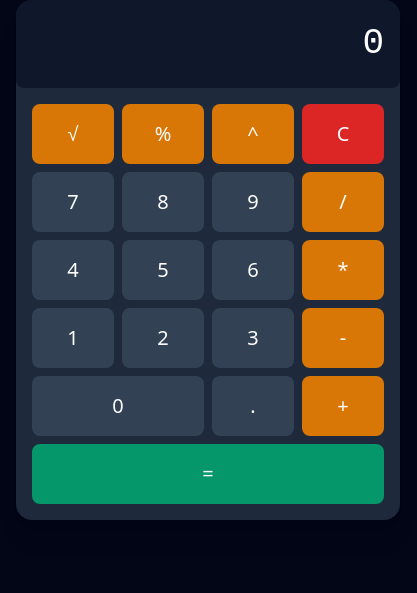
Test case: Calculator › surfaces a negative-square-root error via role=alert
Click the button "4": (73, 270) [32,240,114,300]
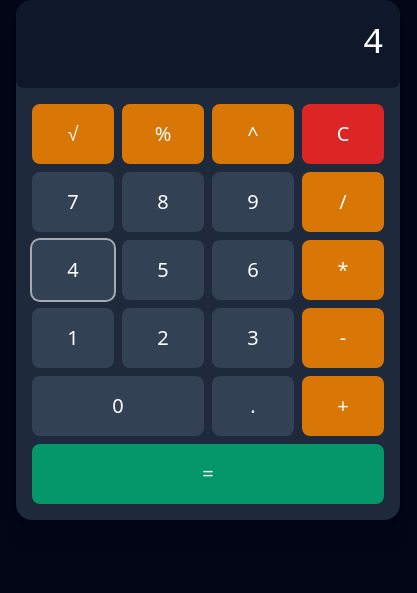
Click the button "-": (343, 338) [302,308,384,368]
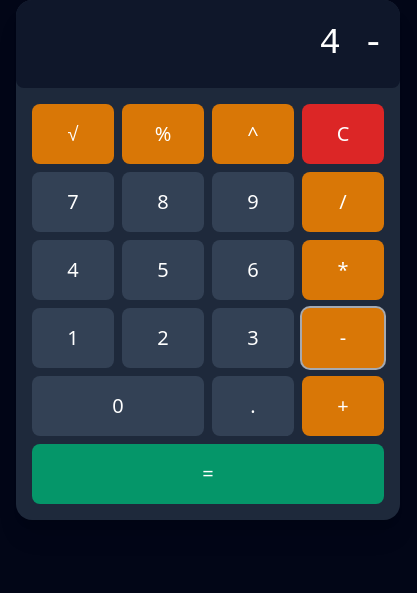
Click the button "9": (253, 202) [212,172,294,232]
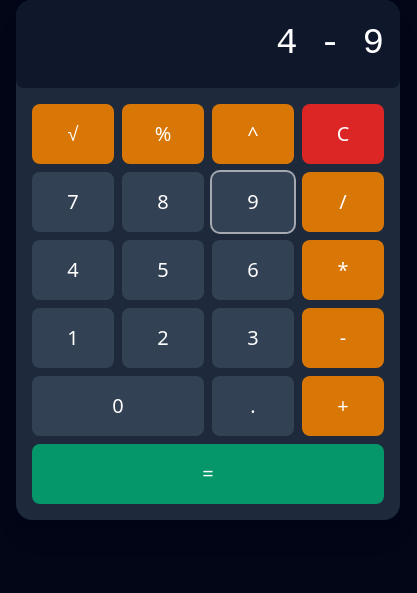
Click the button "=": (208, 474) [32,444,384,504]
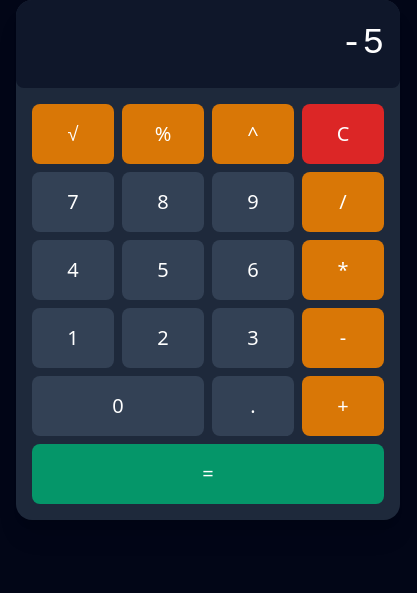
Now the text with test id "display" reads "-5", box [341,23,384,64]
Click the button "√": (73, 134) [32,104,114,164]
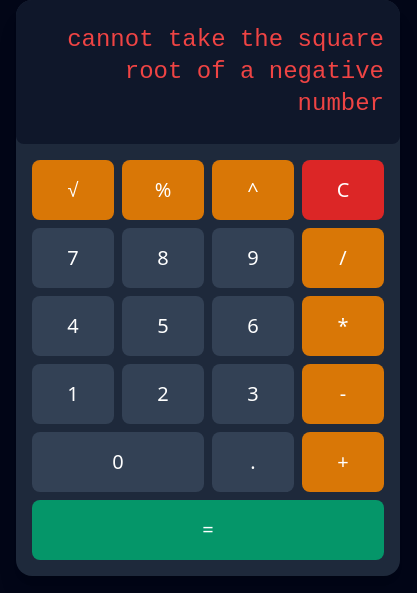
Now the message reads "cannot take the square root of a negative number", box [67,26,384,117]
